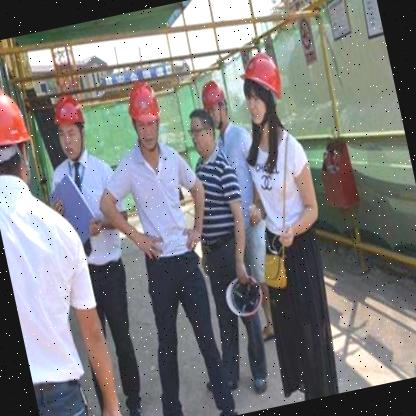capacete: (0, 77, 43, 196), (234, 50, 293, 132), (48, 89, 94, 164), (124, 78, 167, 154), (199, 76, 232, 130)
sem_capacete: (183, 104, 220, 160)
sem_colete_refletivo: (0, 167, 111, 380), (102, 137, 205, 267), (42, 147, 138, 275), (240, 120, 328, 251), (181, 148, 254, 252), (211, 122, 271, 235)
